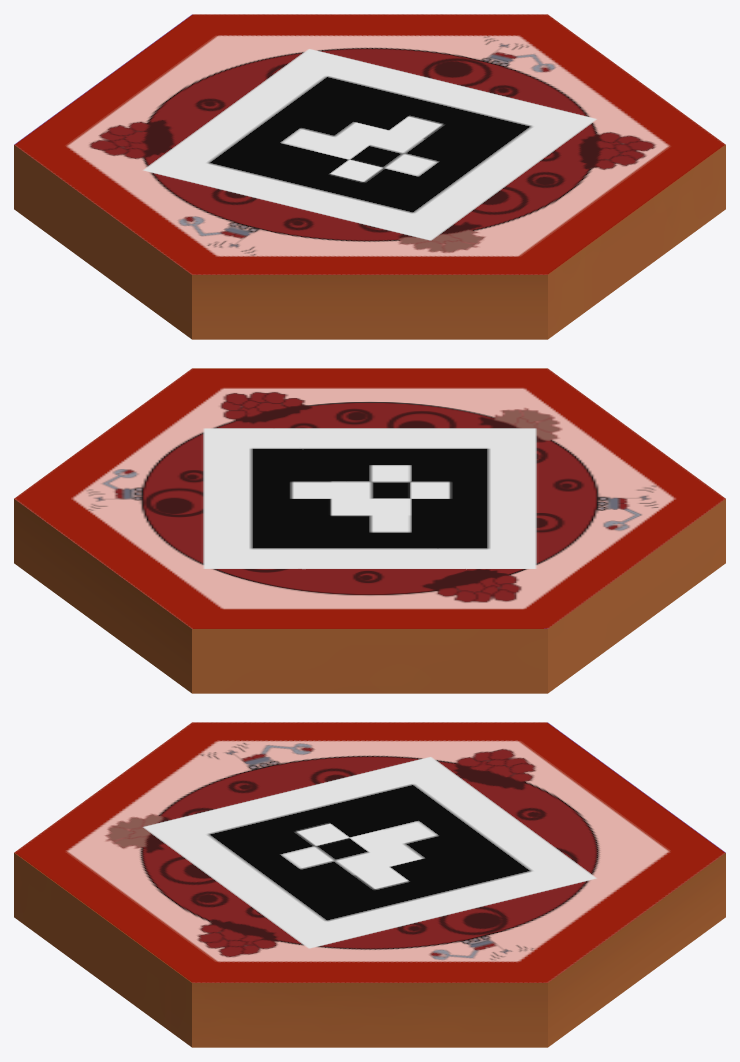
File: echantillon_rouge.obj
3 renders of one model, top to bottom at view 1: azimuth 30°, elevation 25°; view 2: azimuth 150°, elevation 25°; view 3: azimuth 270°, elevation 25°, orthographic.
Parts seen in each view (by area): view 1: Circle; view 2: Circle; view 3: Circle.
Part boxes in pixels (x1,y1,x2,y2): Circle: (14, 14, 725, 339); Circle: (14, 368, 725, 693); Circle: (14, 722, 725, 1047).
Size of the model in its own units: 0.1299 by 0.015 by 0.15.
